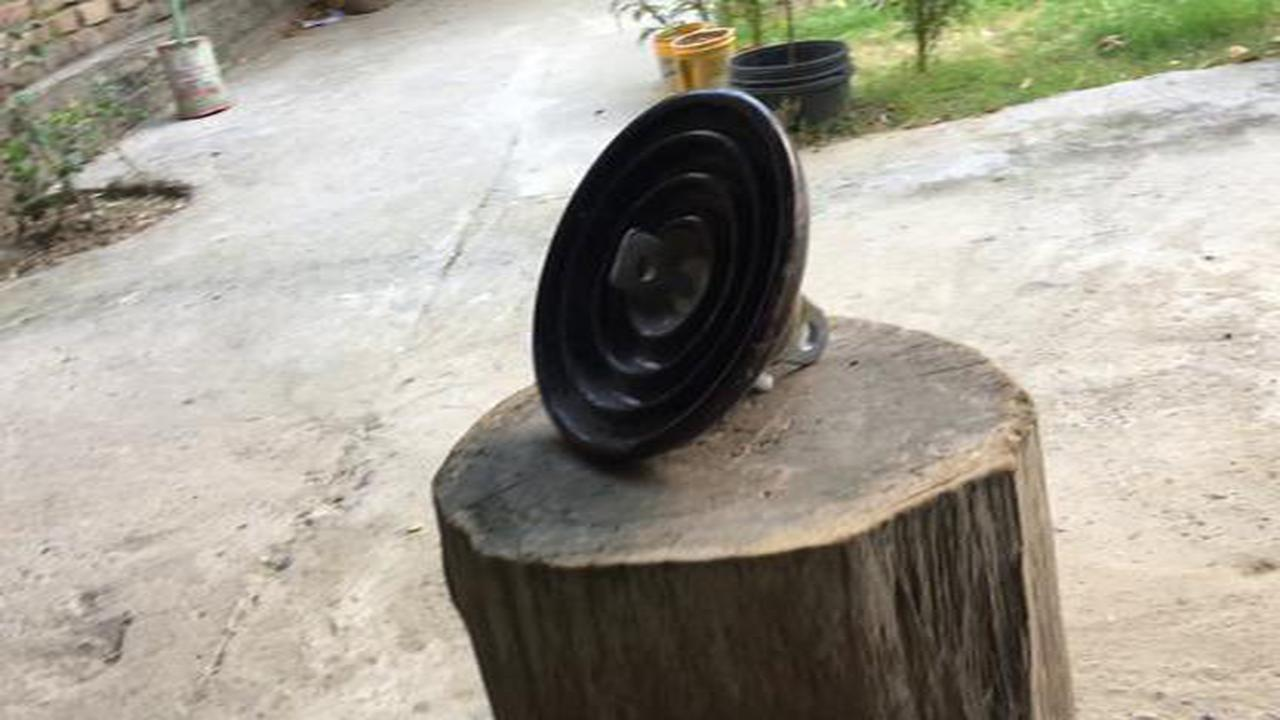insulator_disc: (523, 84, 836, 467)
